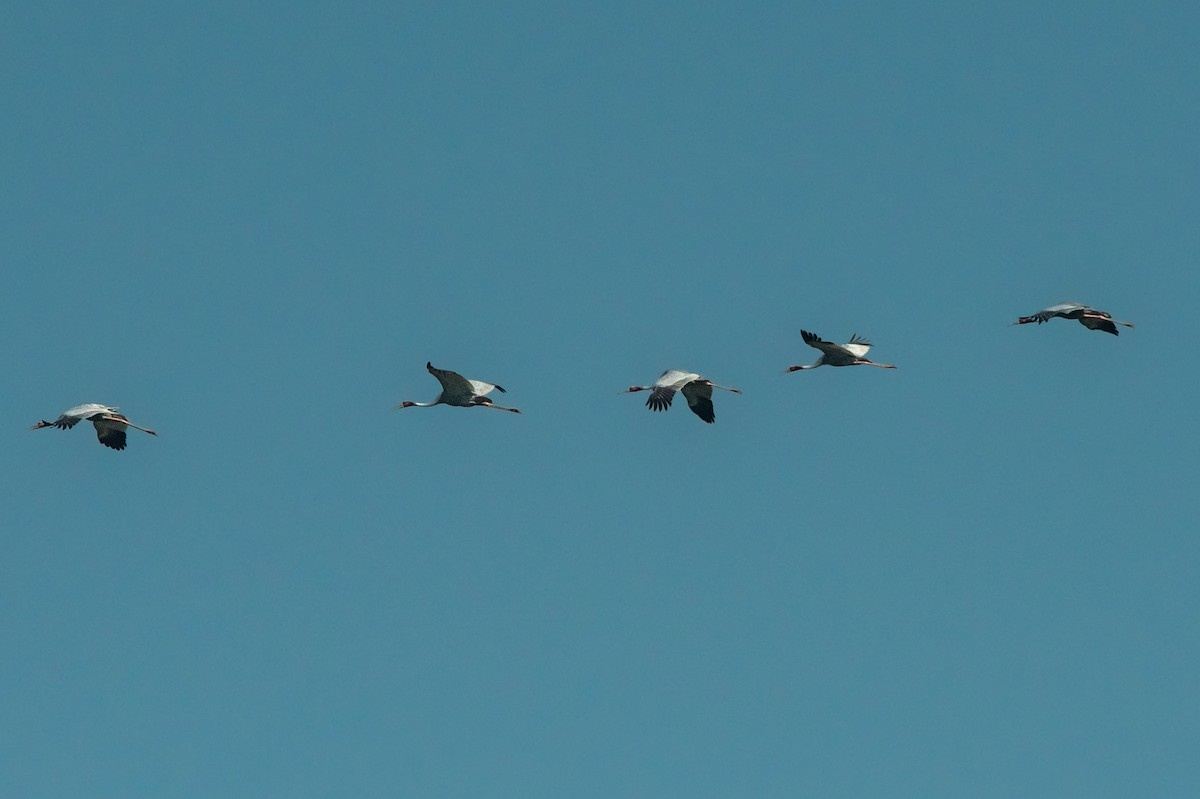crane: (387, 354, 526, 430), (1005, 283, 1149, 355), (785, 318, 900, 390), (622, 367, 742, 435), (29, 394, 162, 455)
